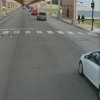crosswalk: (0, 30, 85, 35)
